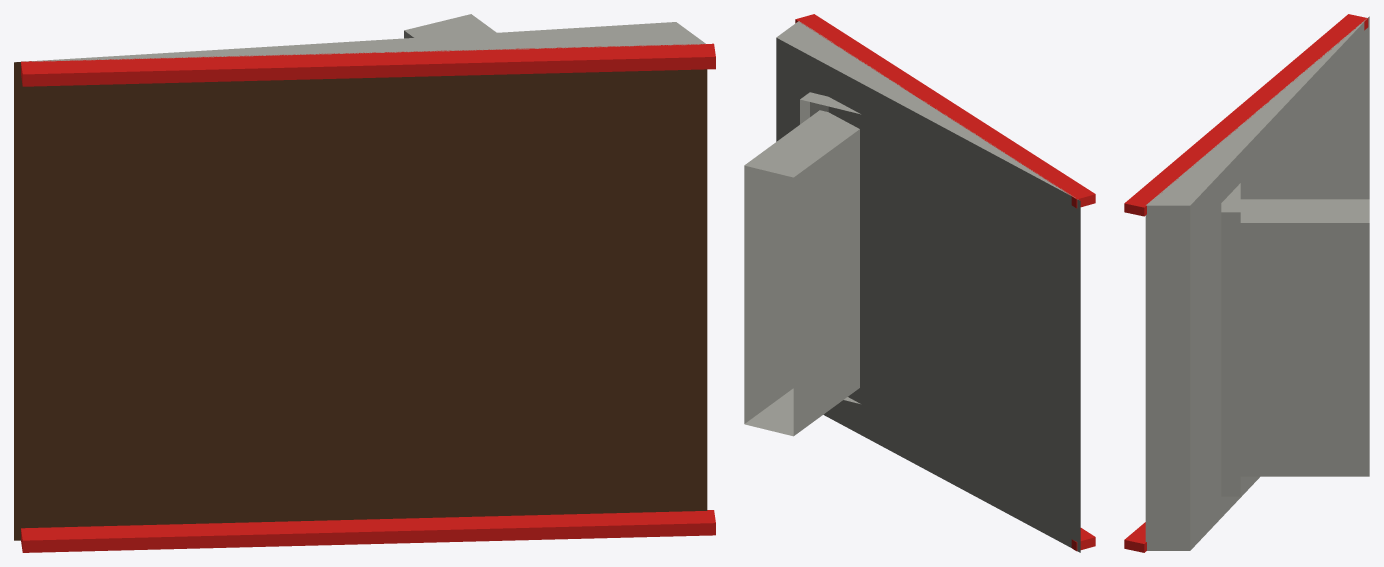
Rendered from ramp.glb.
3 renders of one model, left to right at view 1: azimuth 30°, elevation 25°; view 2: azimuth 150°, elevation 25°; view 3: azimuth 270°, elevation 25°, orthographic. The views are drawn at different scales.
Parts seen in each view (by area): view 1: bridge_01_ramp; view 2: bridge_01_ramp; view 3: bridge_01_ramp.
Boxes of the visible parts, bbox=[...] form: bridge_01_ramp: bbox=[14, 14, 715, 552]; bridge_01_ramp: bbox=[744, 14, 1095, 552]; bridge_01_ramp: bbox=[1124, 14, 1369, 552].
Bounding box in the file's own units: 16.36 × 13.6 × 8.76.
